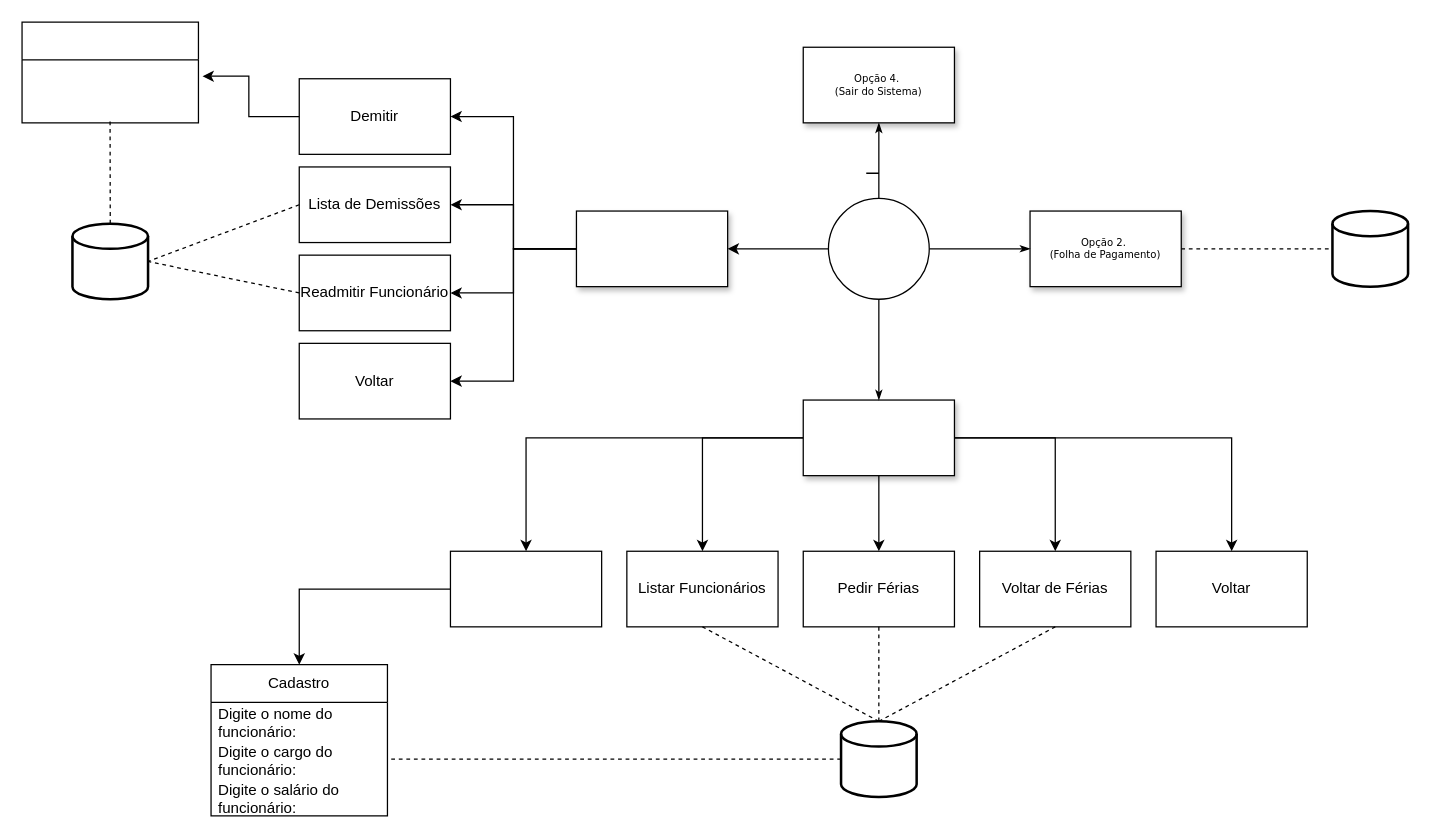
This 1431x838 diagram has some shape labels left out. Each missing label, with the centre of its shape:
"Admitir Funcionarios" belongs at [525,588].
"Digite o número do funcionário que deseja demitir:" belongs at [109,72].
"Opção 1. (Funcionários)" belongs at [879,439].
"Opção 3 . (Demissões)" belongs at [652,250].
"Start" belongs at [878,248].
